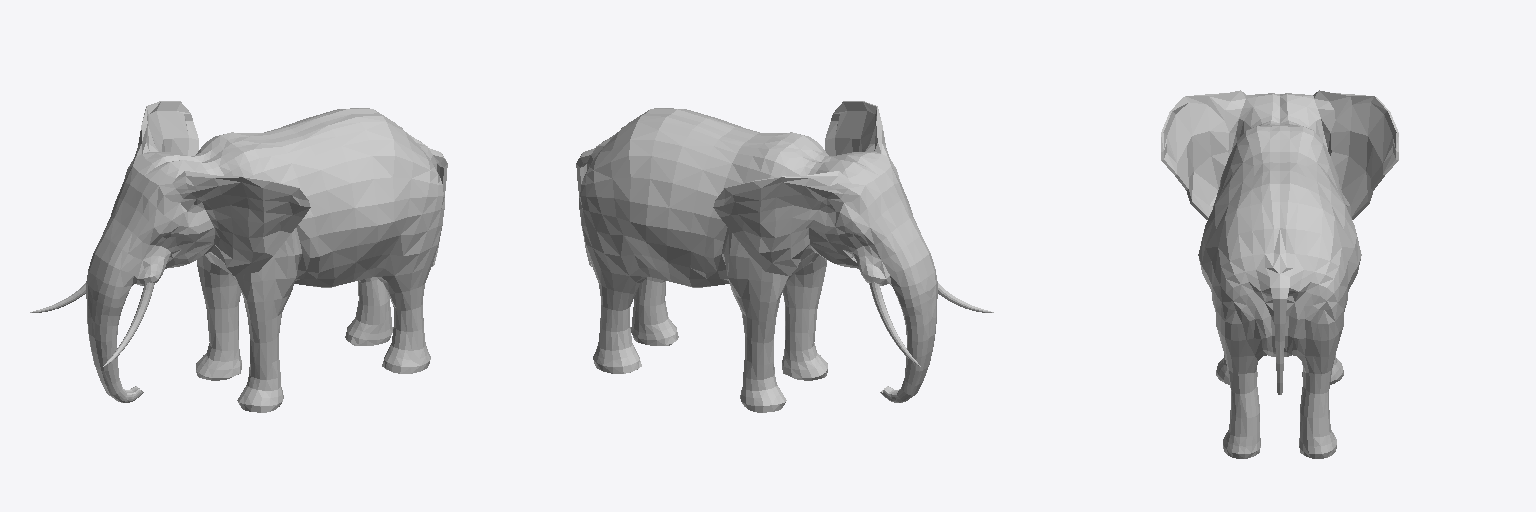
File: ELEFANTE.obj
The picture shows the model from 3 angles: view 1: azimuth 30°, elevation 25°; view 2: azimuth 150°, elevation 25°; view 3: azimuth 270°, elevation 25°; orthographic projection.
Parts seen in each view (by area): view 1: default; view 2: default; view 3: default.
Part boxes in pixels (x1,y1,x2,y2): default: (30,101,447,412); default: (576,101,993,412); default: (1161,90,1398,458).
Bounding box in the file's own units: 6.28 × 4.08 × 3.41.